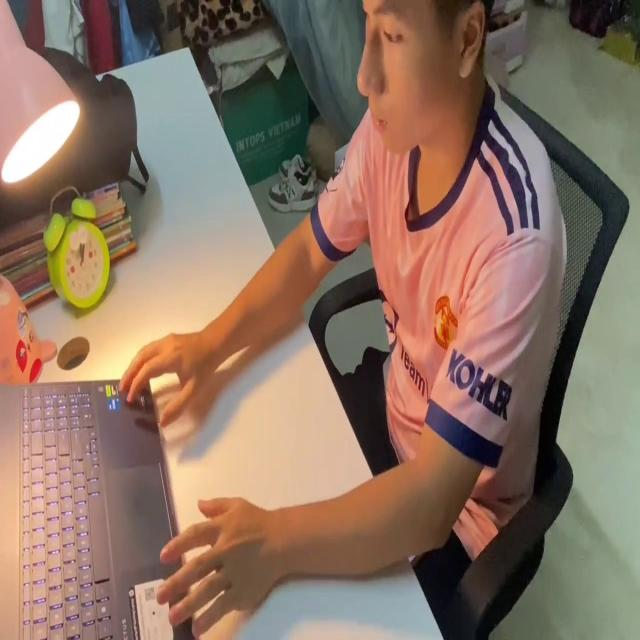laptop: (2, 372, 196, 640)
student: (119, 0, 566, 635)
